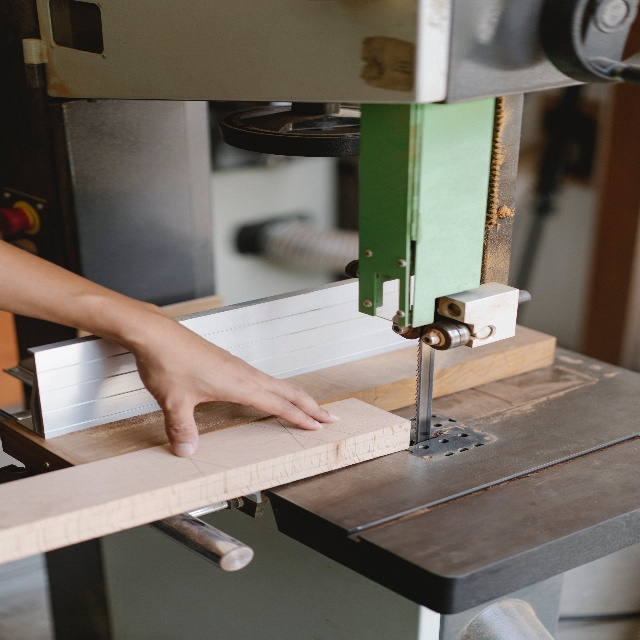Sin_guantes: (133, 301, 339, 458)
